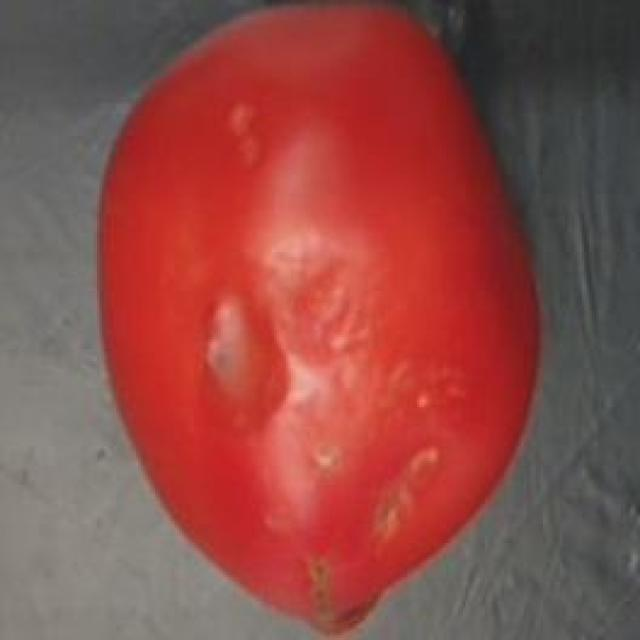overripe tomato: (87, 0, 560, 640)
